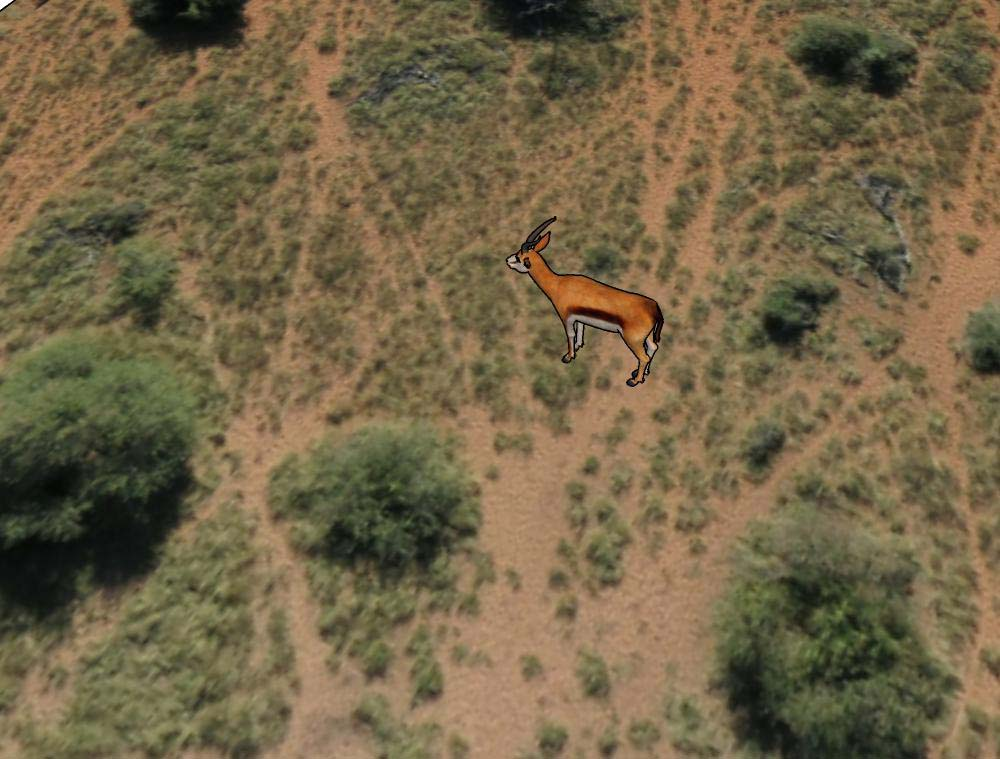springbok: (507, 213, 665, 390)
